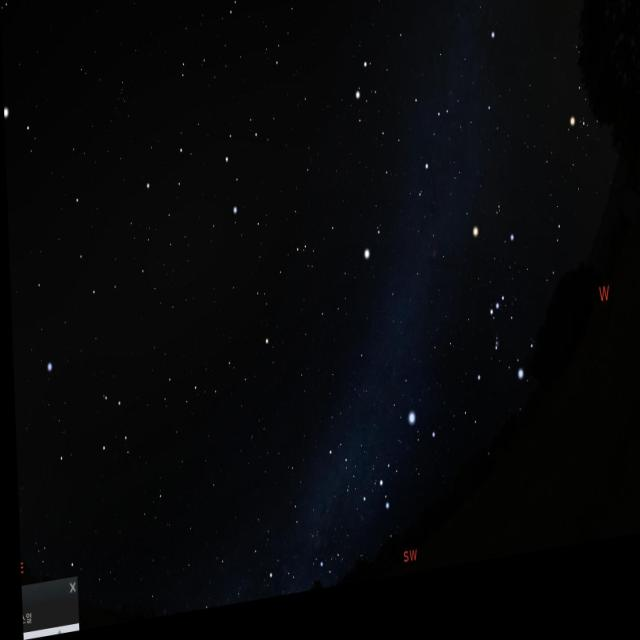bootes: (0, 0, 40, 133)
canis_major: (371, 406, 441, 532)
canis_minor: (353, 228, 391, 292)
gemini: (340, 52, 450, 220)
leo: (141, 122, 280, 267)
orion: (458, 228, 527, 414)
taurus: (563, 72, 630, 195)
